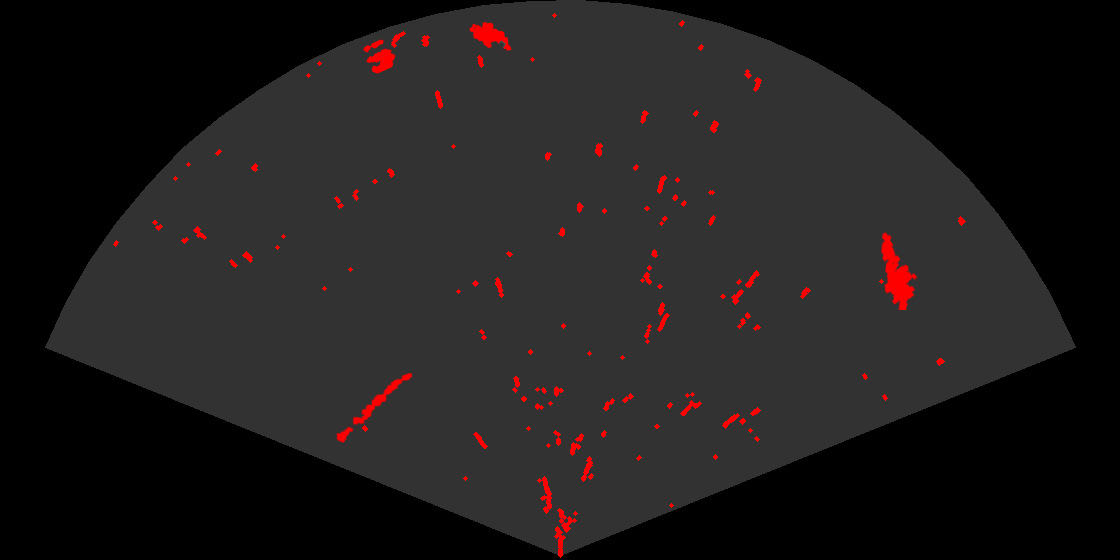AUV: (468, 20, 513, 52)
ball: (361, 38, 397, 75)
chain: (335, 371, 414, 444)
frogman: (879, 231, 919, 310)
